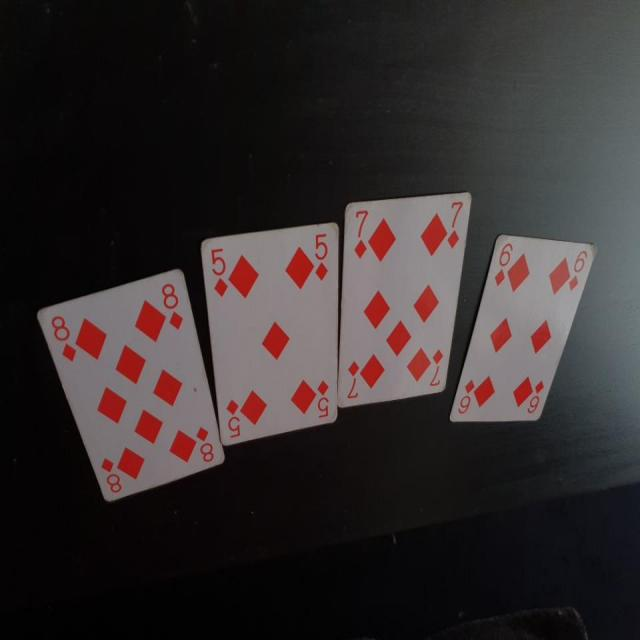5 Diamonds: (202, 214, 344, 446)
6 Diamonds: (446, 234, 597, 421)
7 Diamonds: (338, 187, 473, 408)
8 Diamonds: (35, 267, 225, 505)
